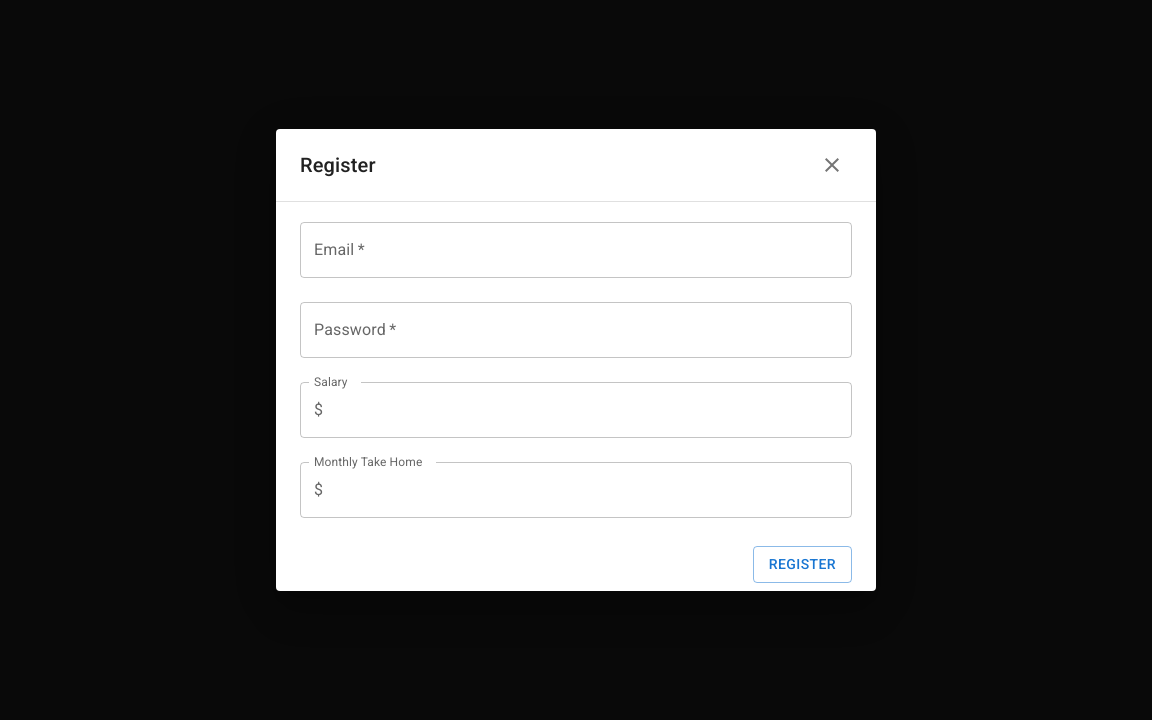
Scenario: RegisterDialog › Form Validation › Shows email validation error when email is empty
The width and height of the screenshot is (1152, 720).
Click the button "Register": (802, 565) [753,546,852,583]
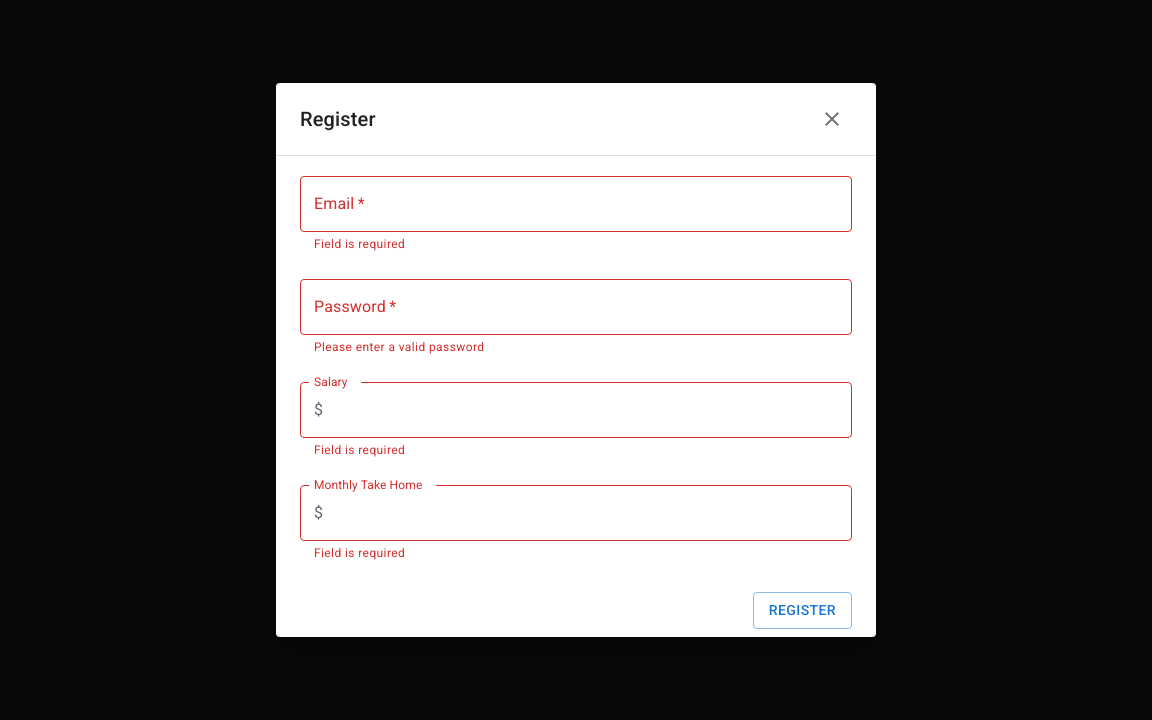
Check: the text "Field is required" below "Email" is shown, box [314,237,405,251]
